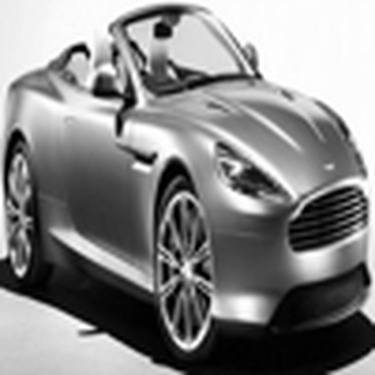car: (9, 4, 369, 328)
